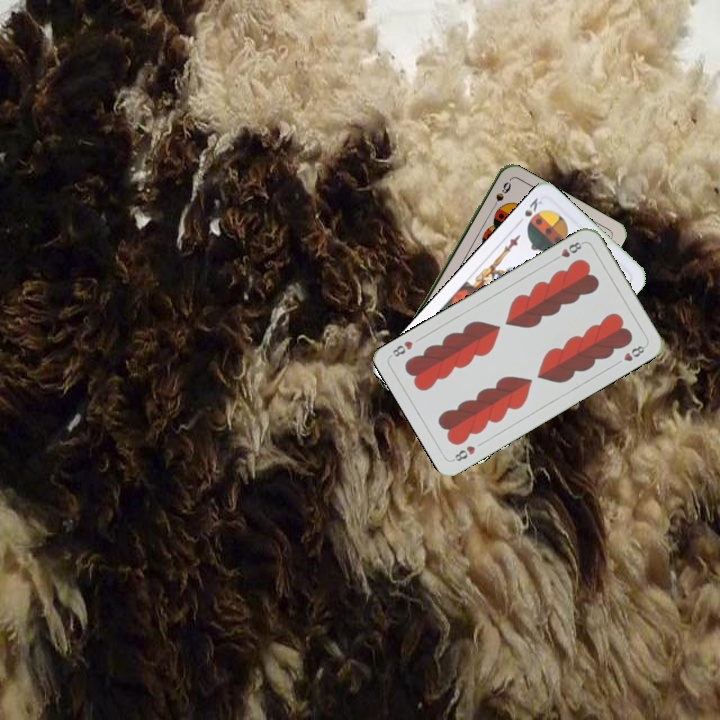H8: (549, 238, 586, 264), (449, 441, 478, 464)
S9: (487, 178, 512, 214)
SK: (520, 193, 545, 228)
